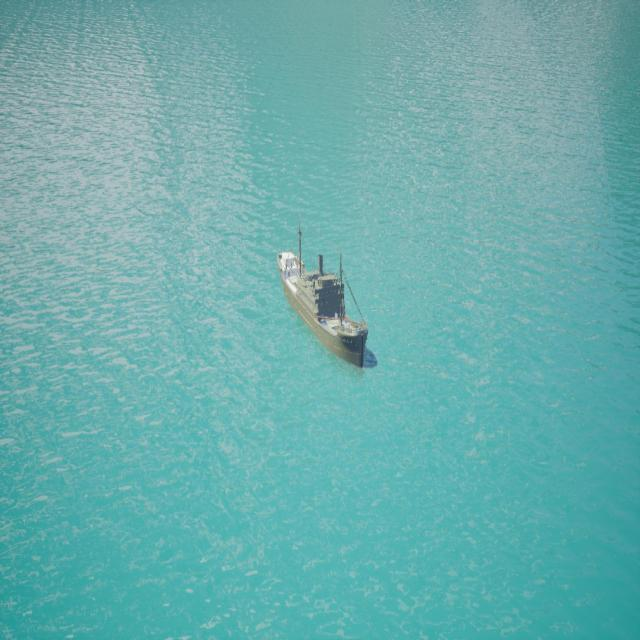fishing ship: (278, 252, 371, 371)
